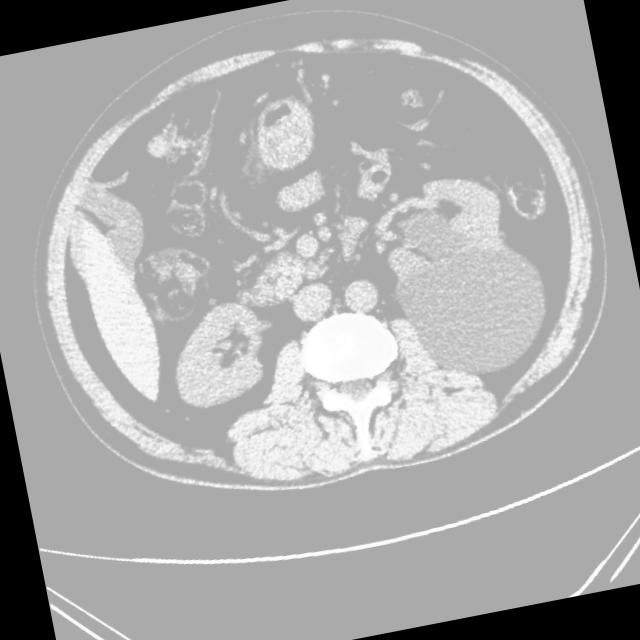cysts: (1, 0, 627, 528)
